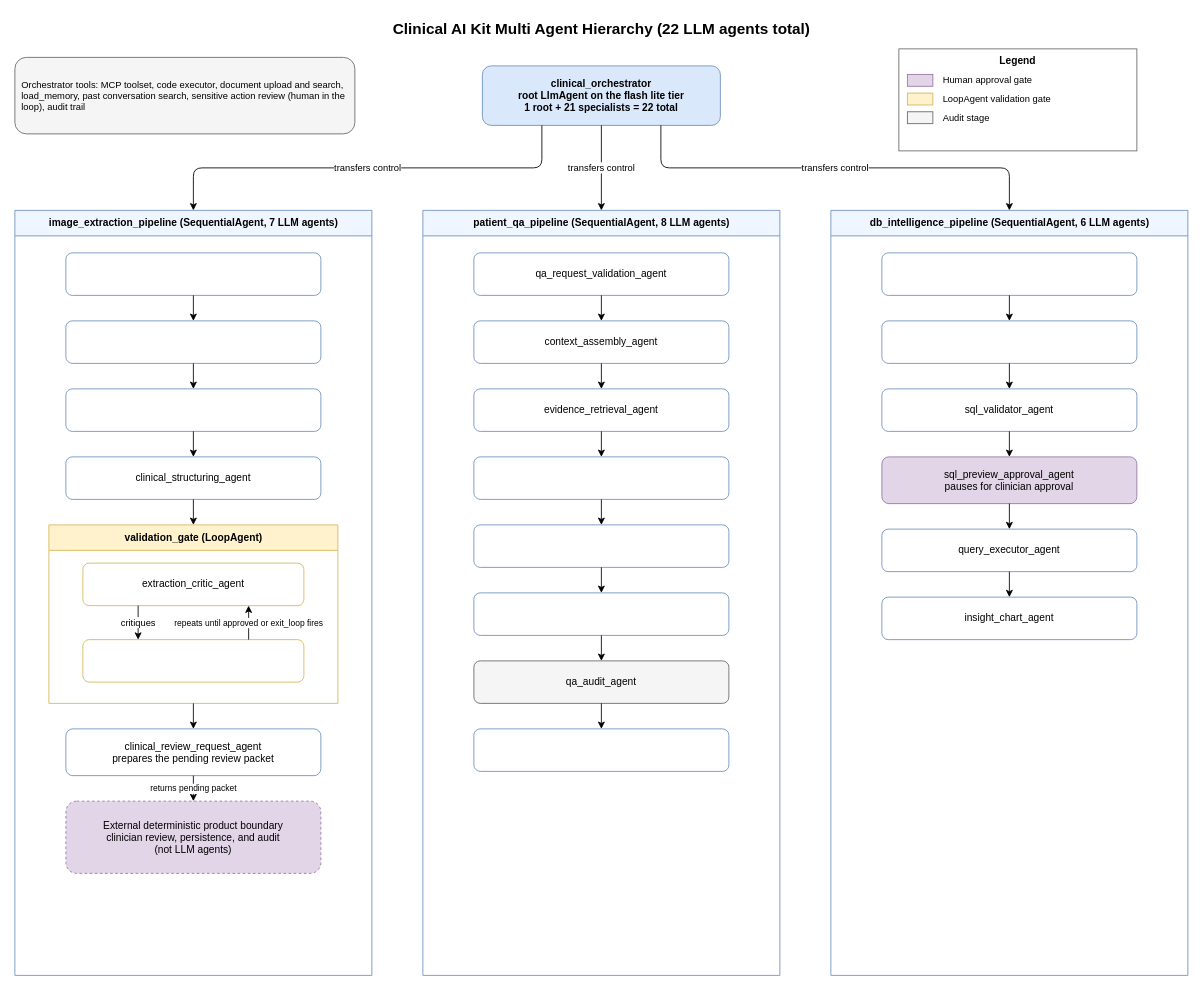
Image size: 1203x990. Some labels were removed from this diagram. Here are the shapes that lost their labels. From the top down, the centre of each, then its label:
the point at 193,273: quality_assessor_agent
the point at 1009,273: schema_discovery_agent
the point at 193,341: ocr_processor_agent
the point at 1009,341: nl_to_sql_agent
the point at 193,409: vision_analyzer_agent
the point at 601,477: image_evidence_agent
the point at 601,545: citation_builder_agent
the point at 601,613: answer_synthesis_agent
the point at 193,660: extraction_refiner_agent
the point at 601,749: qa_response_agent
